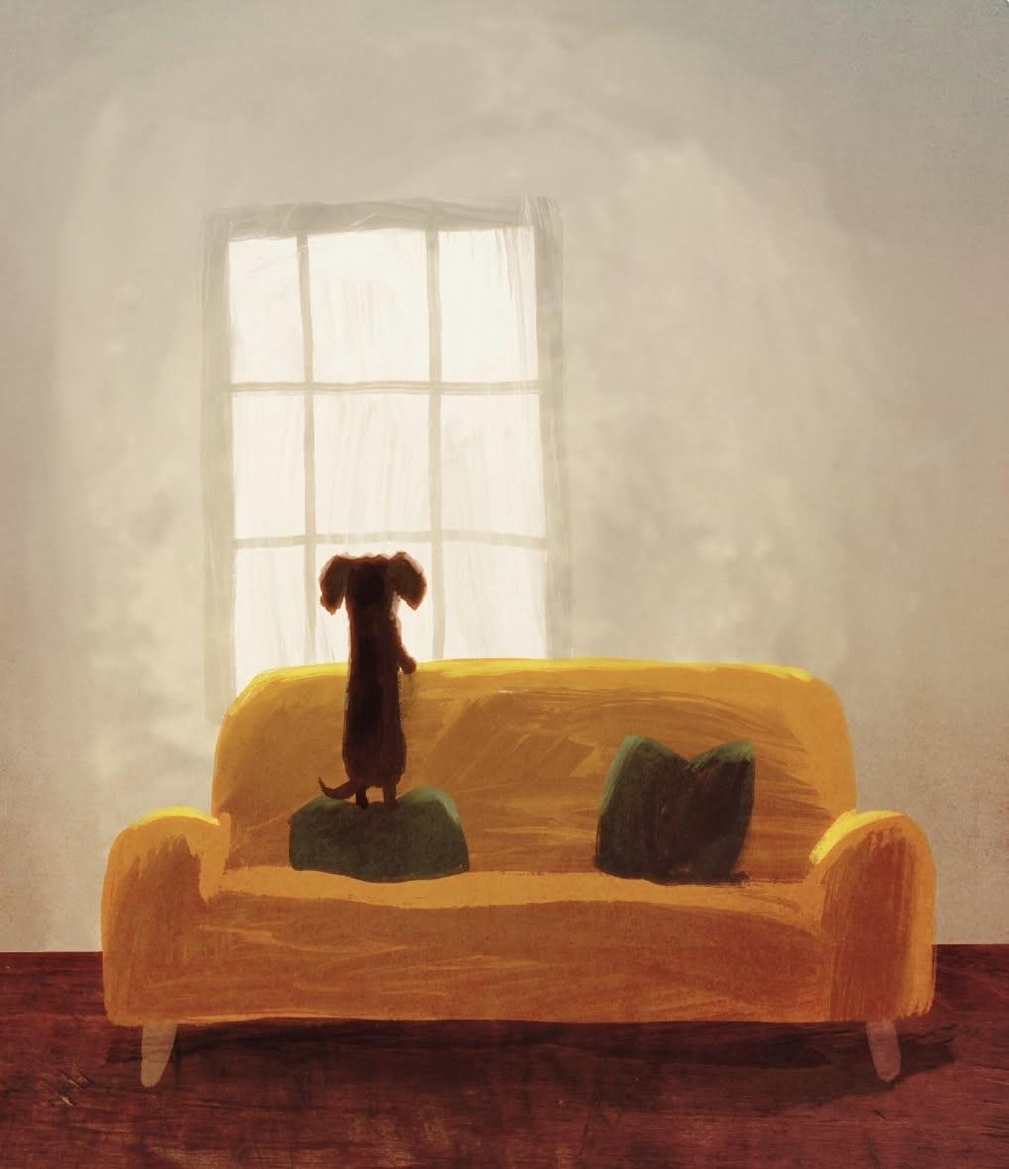adult_dog: (315, 549, 429, 811)
